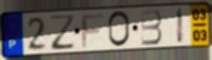2: (26, 16, 48, 53)
B: (140, 8, 164, 47)
F: (80, 12, 105, 49)
I: (176, 7, 185, 45)
O: (107, 10, 132, 49)
Z: (48, 13, 77, 52)
